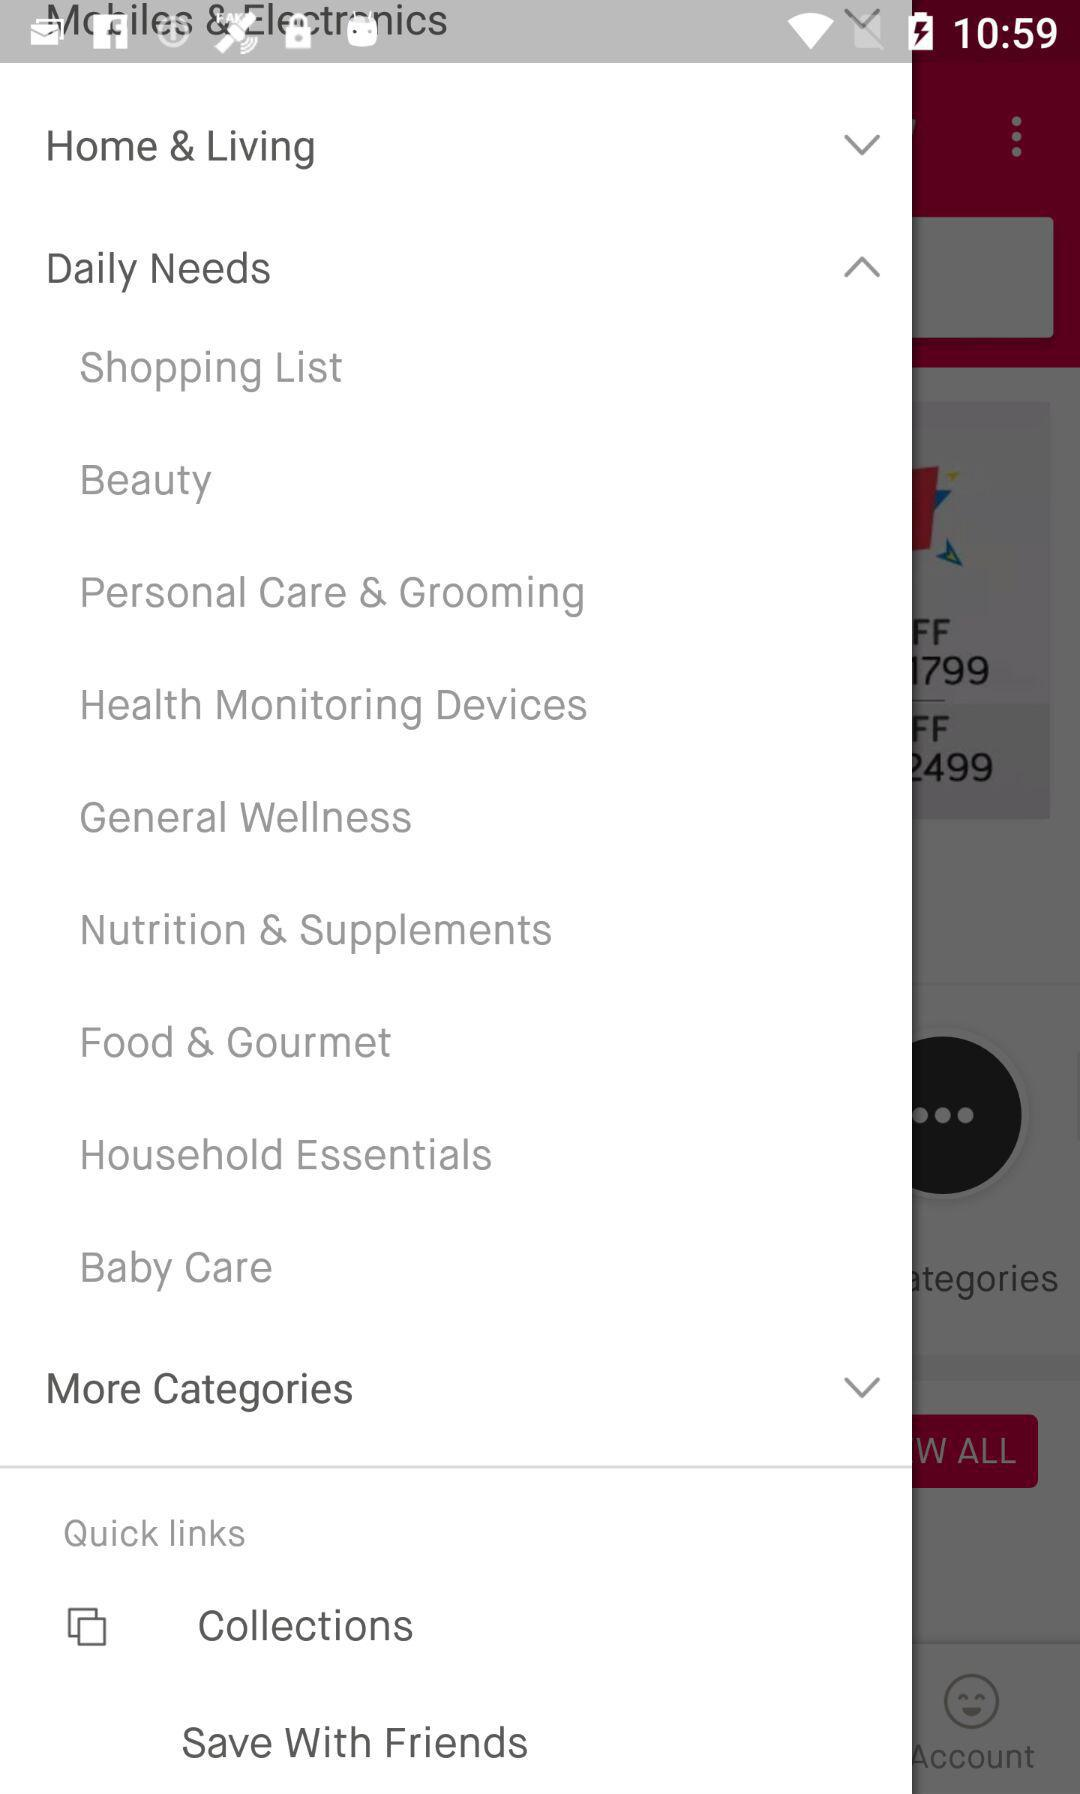Drawer: (1, 64, 912, 1794)
Icon: (68, 1607, 108, 1647), (843, 256, 881, 281), (843, 1376, 881, 1399), (843, 135, 881, 158)
Text: (82, 687, 588, 732), (82, 574, 585, 619), (82, 911, 553, 956), (82, 1137, 493, 1173), (47, 1371, 354, 1413), (182, 1724, 529, 1759), (81, 800, 413, 835), (79, 349, 345, 393), (82, 1023, 392, 1060), (47, 129, 315, 170), (47, 250, 272, 295), (81, 1249, 274, 1294), (199, 1608, 414, 1642), (82, 464, 213, 506), (64, 1518, 246, 1548)
UpperTaskBar: (1, 1, 1080, 64)
